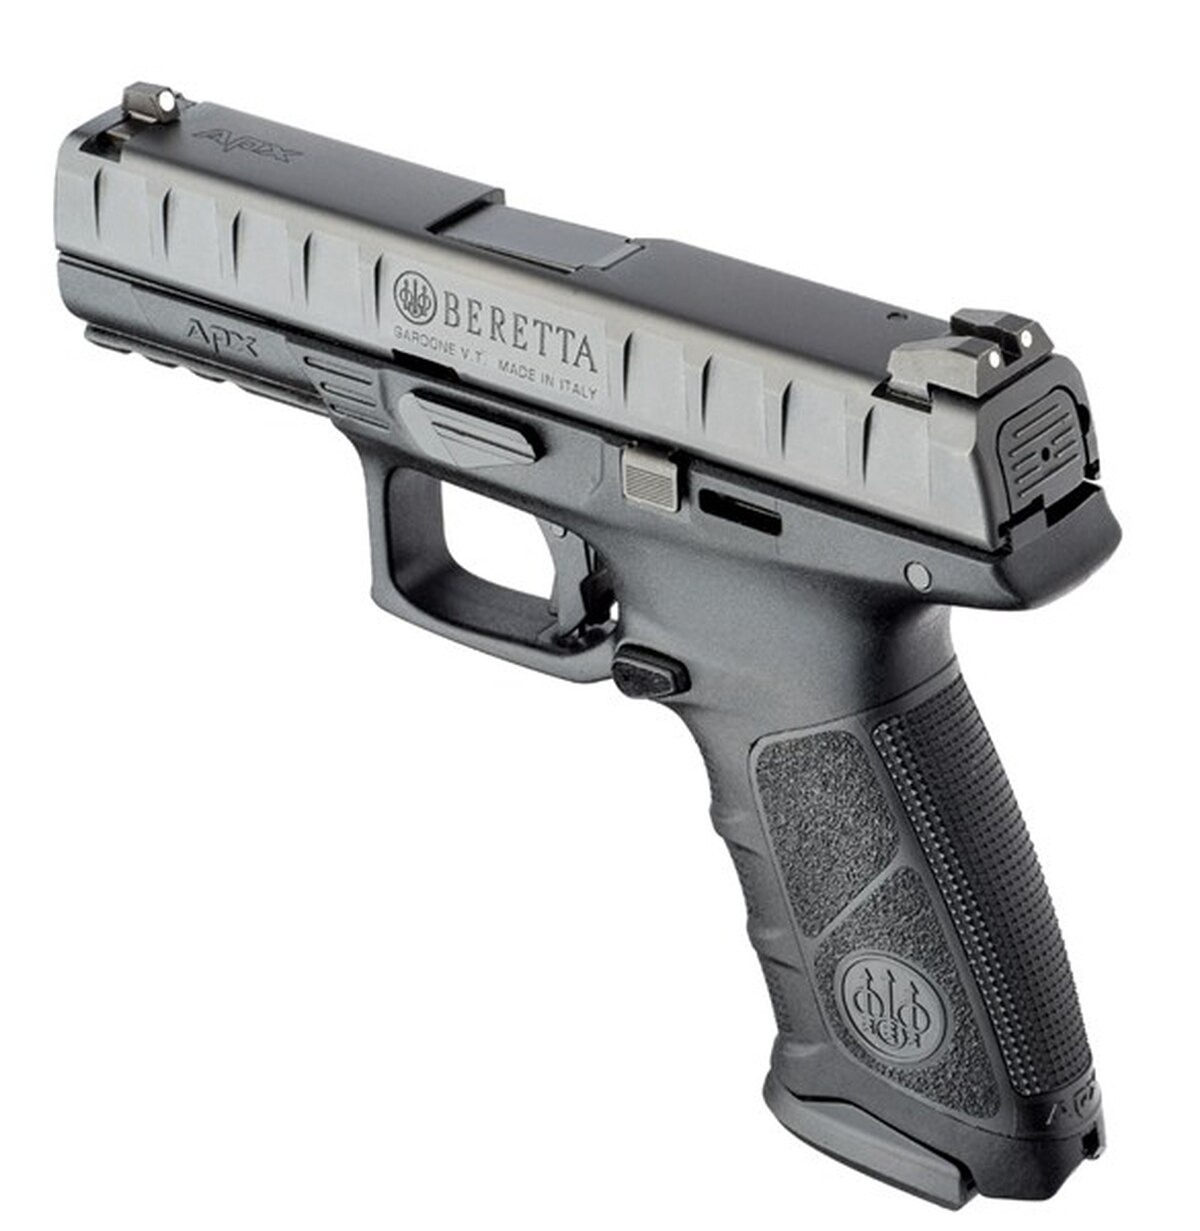gun: (36, 67, 1114, 1209)
